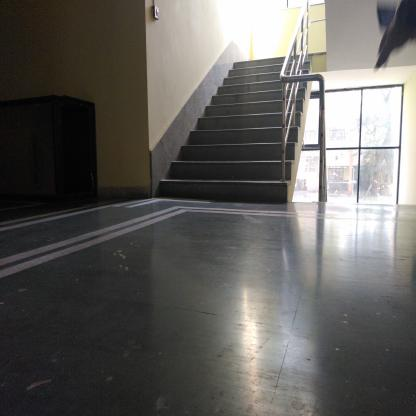stairs: (235, 59, 278, 206)
